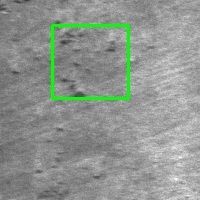rolled-in_scale: (52, 25, 128, 98)
